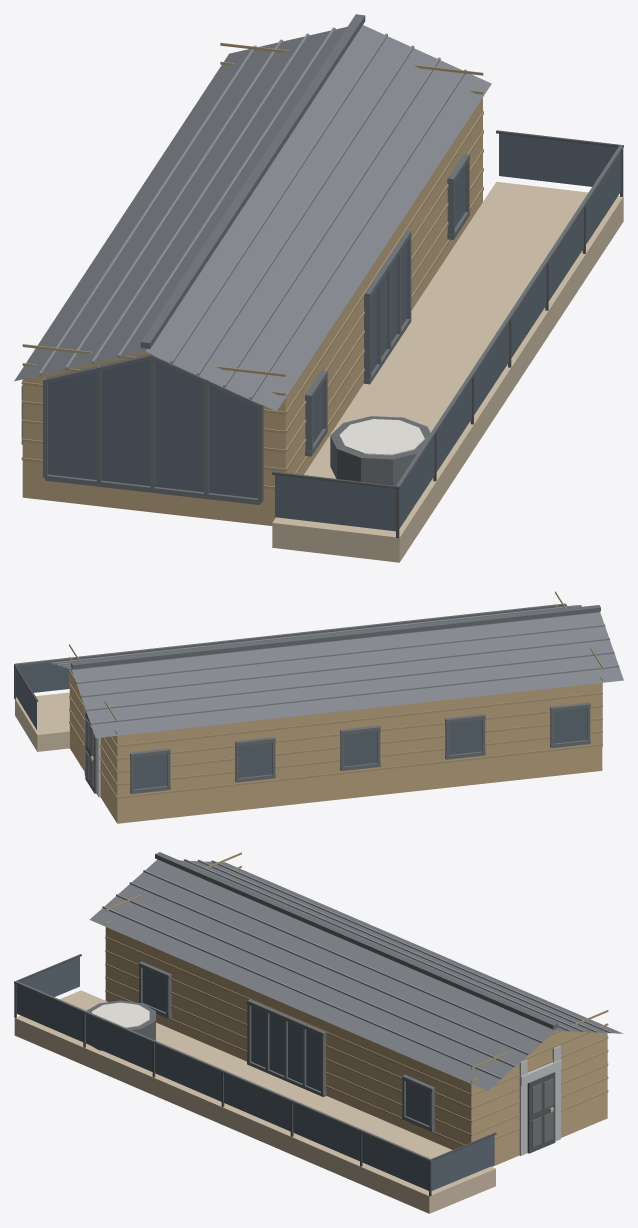
The picture shows the model from 3 angles, top to bottom: view 1: azimuth 30°, elevation 25°; view 2: azimuth 150°, elevation 25°; view 3: azimuth 270°, elevation 25°; orthographic projection. The views are drawn at different scales.
Parts seen in each view (by area): view 1: slate, larch, window_glass_015, door_wood, slate_dk, slate_lt, door_wood_p, window_glass_007, window_glass_008, band_dark, string, pipe (+6 smaller); view 2: slate, door_wood, slate_dk, slate_lt, door_wood_p, larch, window_glass_006, window_glass_018, window_glass_017, window_glass_016, window_glass_020, window_glass_019 (+4 smaller); view 3: slate, door_wood, larch, slate_dk, slate_lt, door_wood_p, window_glass_001, window_glass_005, window_glass_002, window_glass_003, window_glass_004, window_glass_006 (+14 smaller).
Boxes of the visible parts, box(x1,y1,x2,y2) form: slate: box(14, 25, 491, 411); larch: box(272, 181, 623, 562); window_glass_015: box(48, 360, 257, 498); door_wood: box(22, 98, 482, 525); slate_dk: box(21, 14, 623, 504); slate_lt: box(39, 27, 466, 399); door_wood_p: box(21, 43, 483, 489); window_glass_007: box(275, 475, 395, 531); window_glass_008: box(499, 133, 617, 186); band_dark: box(330, 416, 430, 485); string: box(339, 419, 424, 455); pipe: box(272, 130, 623, 538); slate: box(48, 605, 623, 737); door_wood: box(69, 669, 602, 823); slate_dk: box(15, 603, 602, 793); slate_lt: box(52, 605, 619, 724); door_wood_p: box(69, 591, 602, 798); larch: box(15, 692, 69, 751); window_glass_006: box(17, 657, 99, 692); window_glass_018: box(344, 731, 376, 766); window_glass_017: box(239, 742, 271, 777); window_glass_016: box(134, 754, 166, 789); window_glass_020: box(554, 708, 586, 743); window_glass_019: box(449, 719, 481, 754); slate: box(89, 859, 623, 1090); door_wood: box(105, 927, 607, 1166); larch: box(14, 990, 495, 1213); slate_dk: box(14, 852, 558, 1161); slate_lt: box(102, 859, 610, 1079); door_wood_p: box(105, 852, 608, 1145); window_glass_001: box(16, 984, 83, 1041); window_glass_005: box(293, 1103, 359, 1161); window_glass_002: box(86, 1014, 152, 1071); window_glass_003: box(155, 1044, 221, 1101); window_glass_004: box(224, 1073, 290, 1131); window_glass_006: box(362, 1133, 428, 1190).
Bounding box in the file's own units: 15.83 × 3.68 × 15.69.
